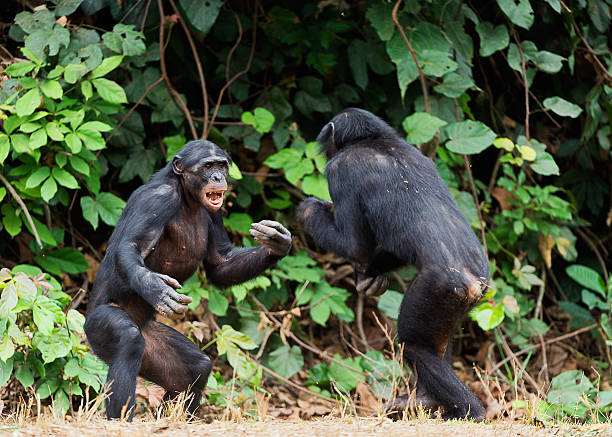chimpanzee: (168, 126, 249, 223)
